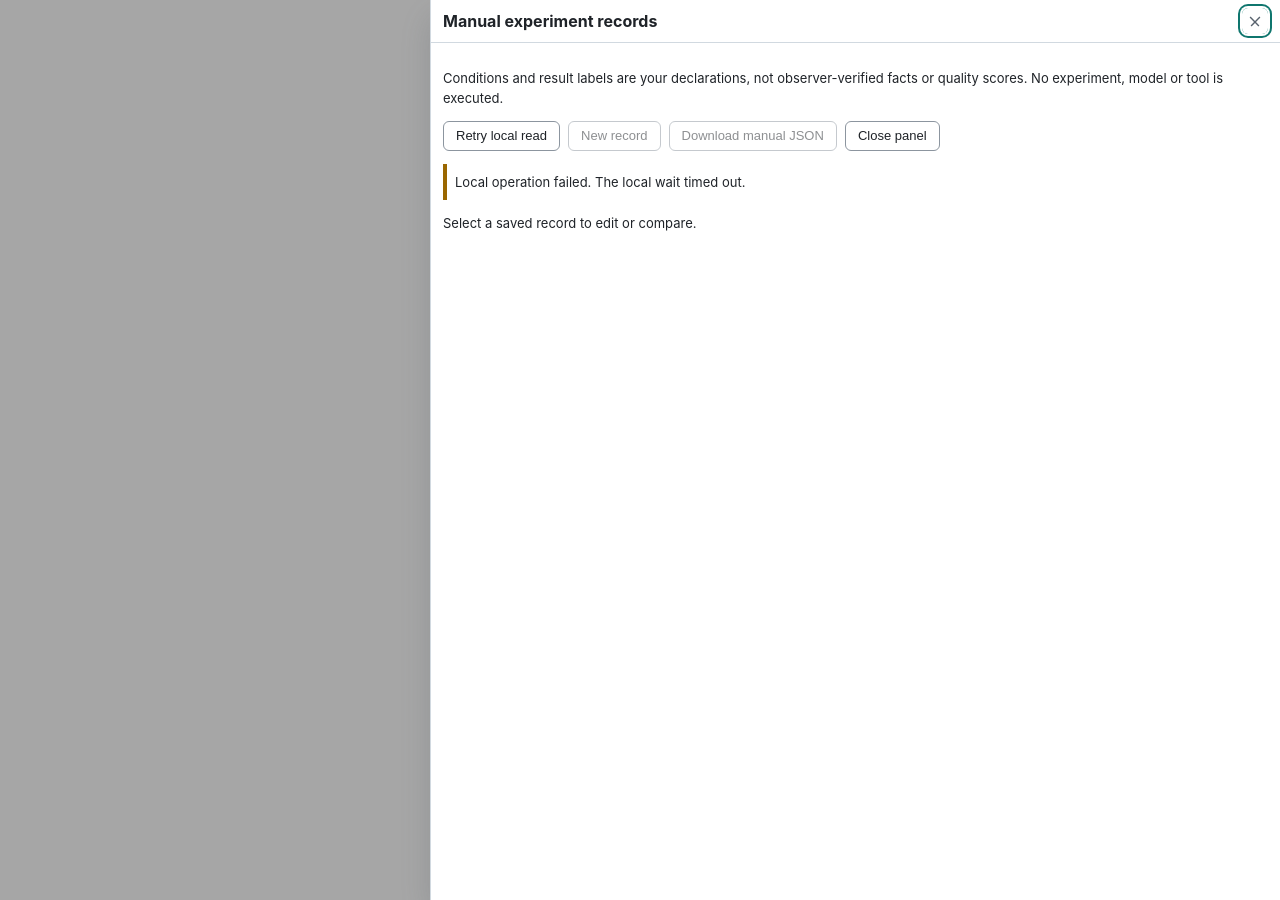
it: manual experiment panel › has bounded read timeout, late suppression and explicit retry
Click the button "Retry local read". click: click(502, 136)
box: [443,121,560,151]
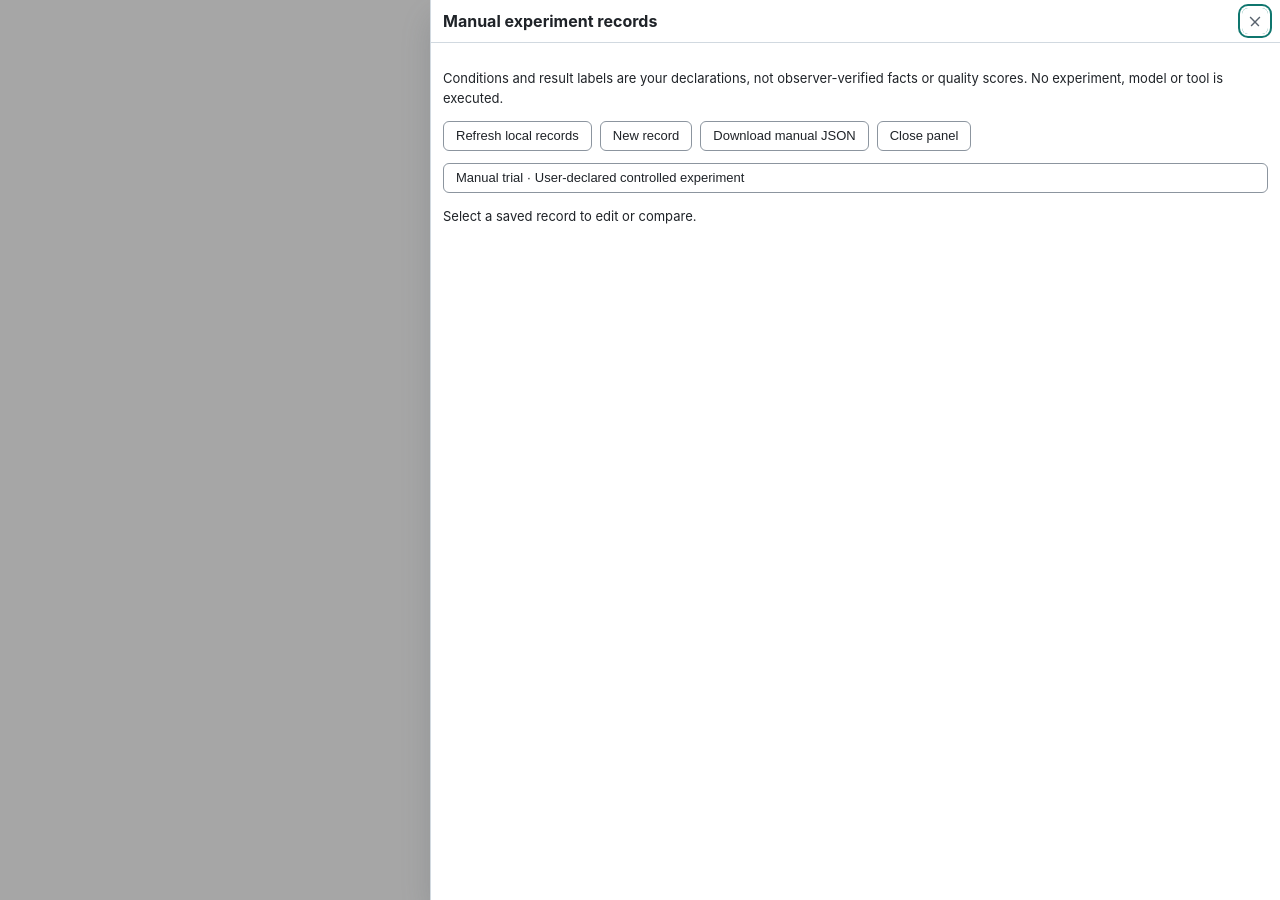
Expected: the text "Manual trial" is shown, [443,163,1268,193]
